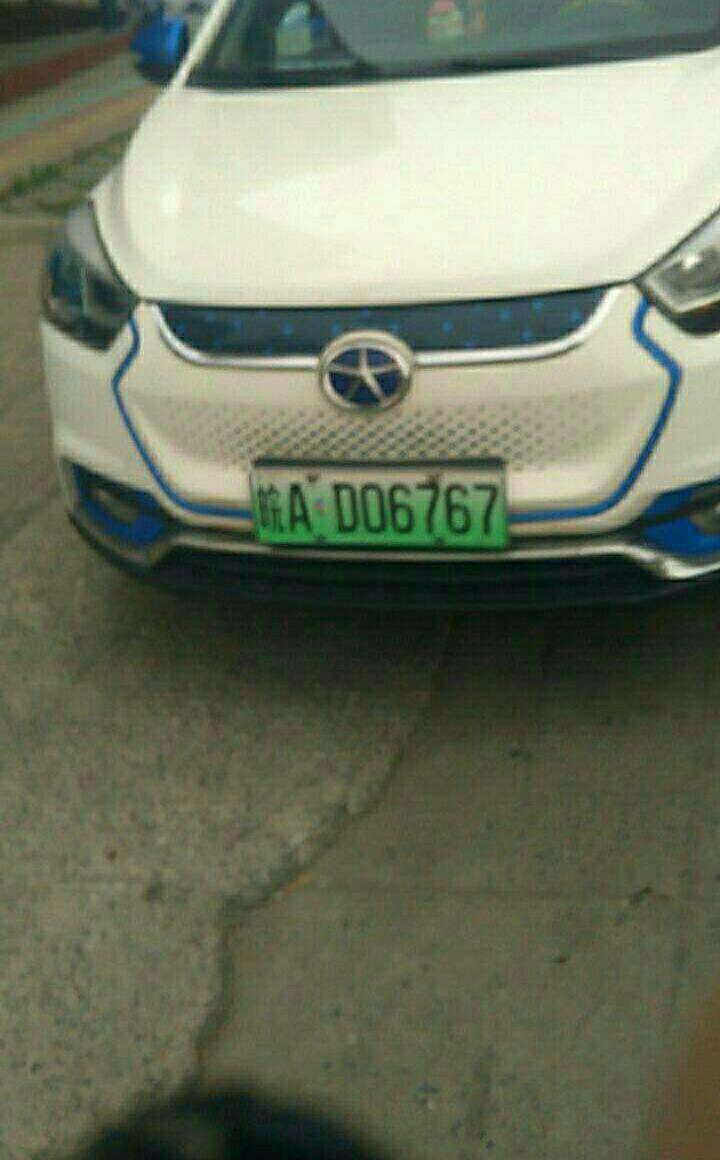car: (253, 463, 511, 557)
